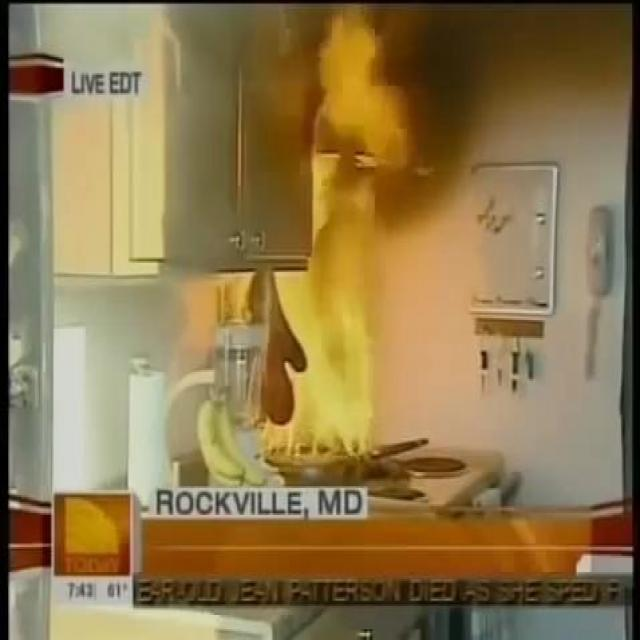fire: (261, 17, 432, 439)
